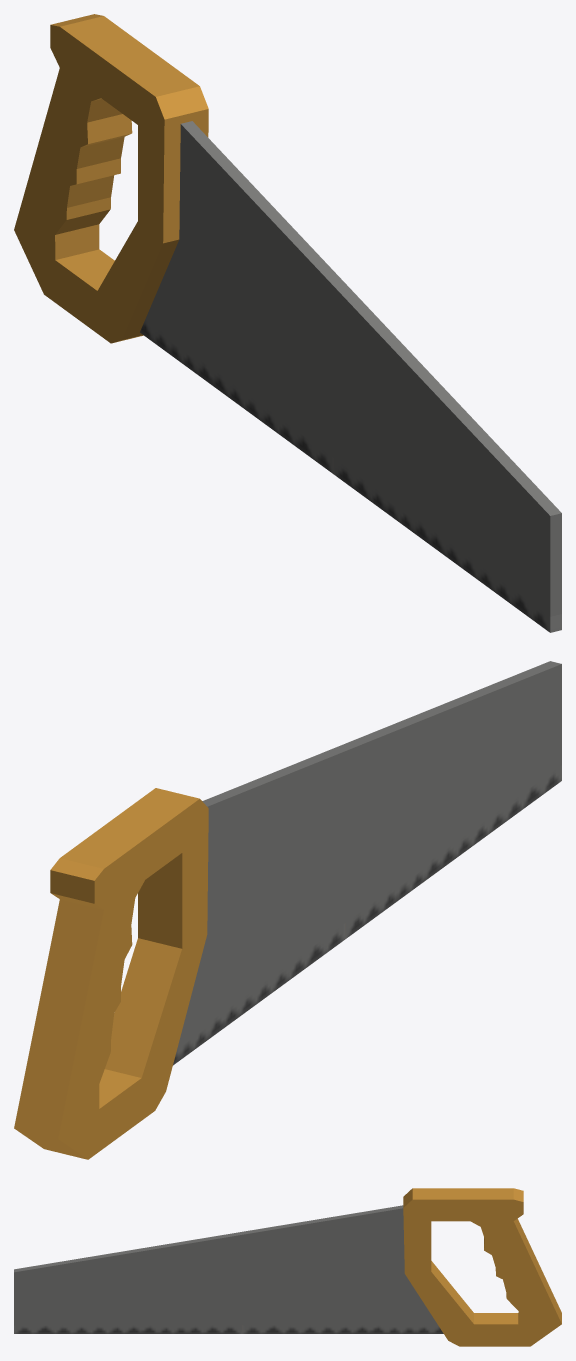
Rendered from SM_Item_Handsaw_01.fbx.
3 renders of one model, top to bottom at view 1: azimuth 30°, elevation 25°; view 2: azimuth 150°, elevation 25°; view 3: azimuth 270°, elevation 25°, orthographic. The views are drawn at different scales.
Visible parts, largest first — view 1: SM_Item_Handsaw_01; view 2: SM_Item_Handsaw_01; view 3: SM_Item_Handsaw_01.
Part boxes in pixels (bbox=[...]): SM_Item_Handsaw_01: bbox=[14, 14, 561, 632]; SM_Item_Handsaw_01: bbox=[14, 661, 561, 1159]; SM_Item_Handsaw_01: bbox=[14, 1188, 561, 1346].
Bounding box in the file's own units: 3.96 × 23.9 × 80.62.
